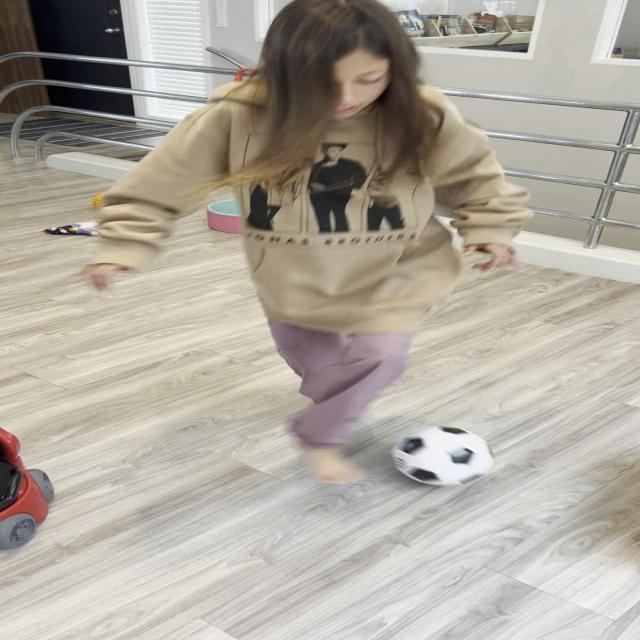Soccer Ball: (394, 425, 496, 486)
